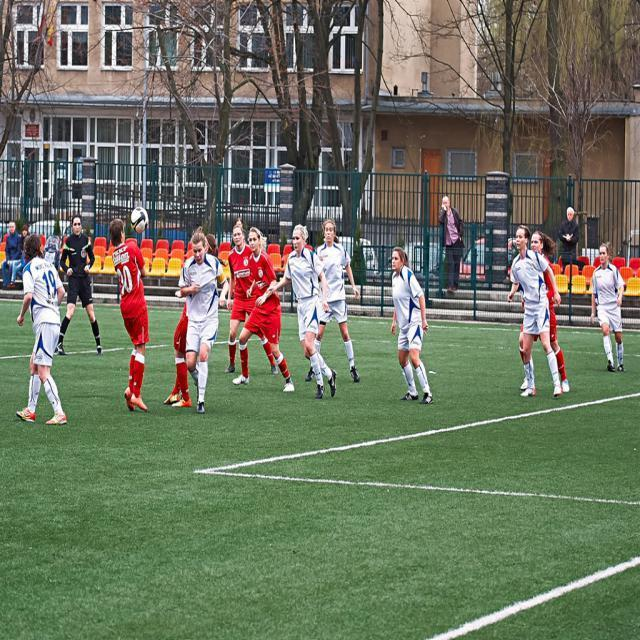football: (127, 194, 156, 237)
